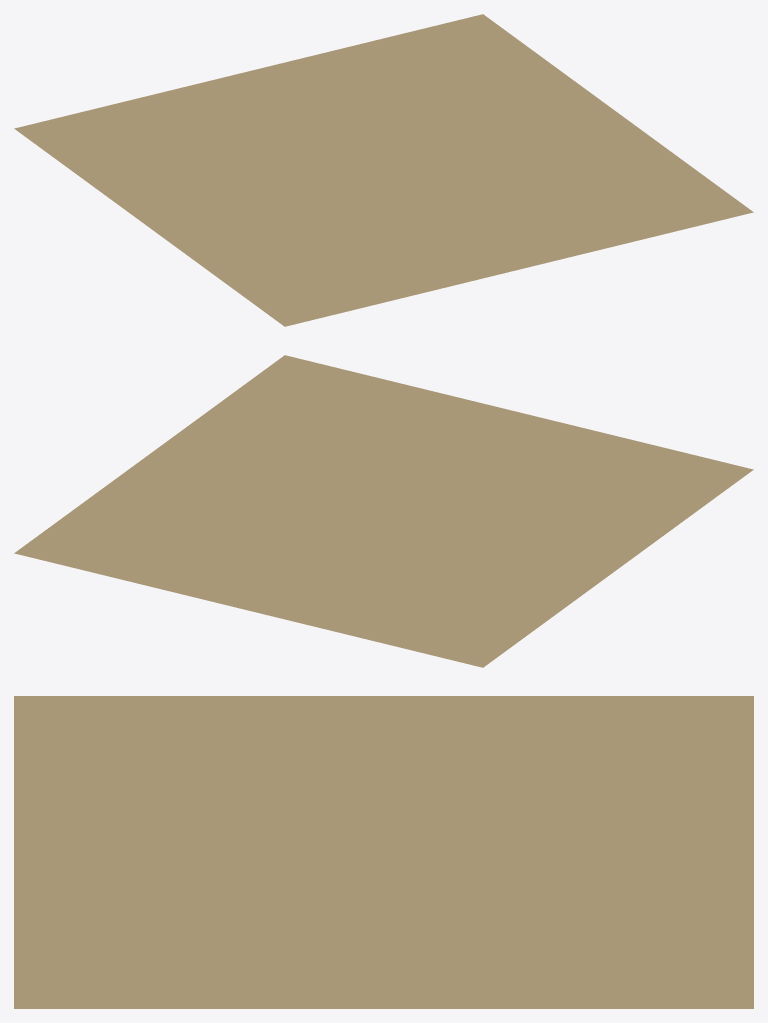
File: Floor.fbx
3 renders of one model, top to bottom at view 1: azimuth 30°, elevation 25°; view 2: azimuth 150°, elevation 25°; view 3: azimuth 270°, elevation 25°, orthographic. The views are drawn at different scales.
Parts seen in each view (by area): view 1: Floor; view 2: Floor; view 3: Floor.
Part boxes in pixels (box(x1,y1,x2,y2)): Floor: box(14, 14, 753, 326); Floor: box(14, 355, 753, 667); Floor: box(14, 696, 753, 1008).
Bounding box in the file's own units: 20 × 1.22e-15 × 20.
